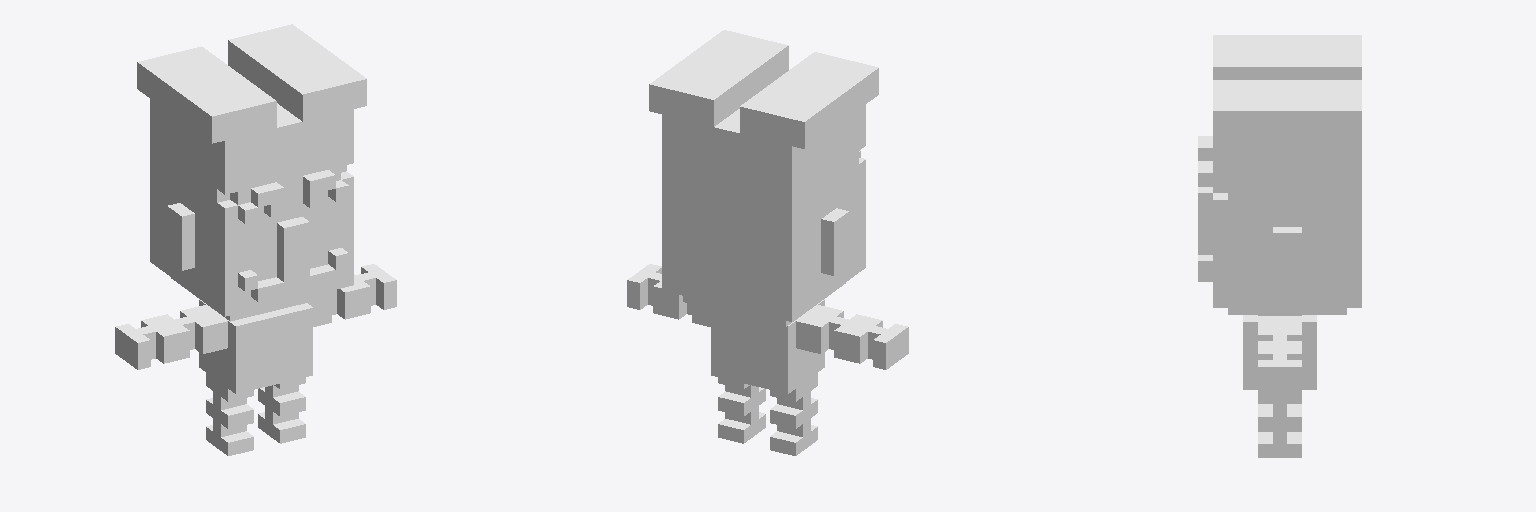
File: Pizzechef.obj
3 renders of one model, left to right at view 1: azimuth 30°, elevation 25°; view 2: azimuth 150°, elevation 25°; view 3: azimuth 270°, elevation 25°, orthographic.
Visible parts, largest first — view 1: object 1; view 2: object 1; view 3: object 1.
Boxes of the visible parts, x1=… form: object 1: x1=115, y1=24, x2=396, y2=455; object 1: x1=627, y1=30, x2=908, y2=455; object 1: x1=1198, y1=35, x2=1361, y2=457.
Size of the model in its own units: 2 by 2.7 by 1.1.